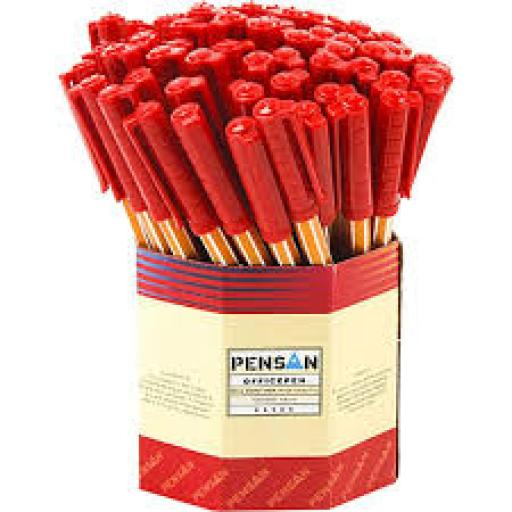tukenmez-kalem: (46, 0, 511, 284)
